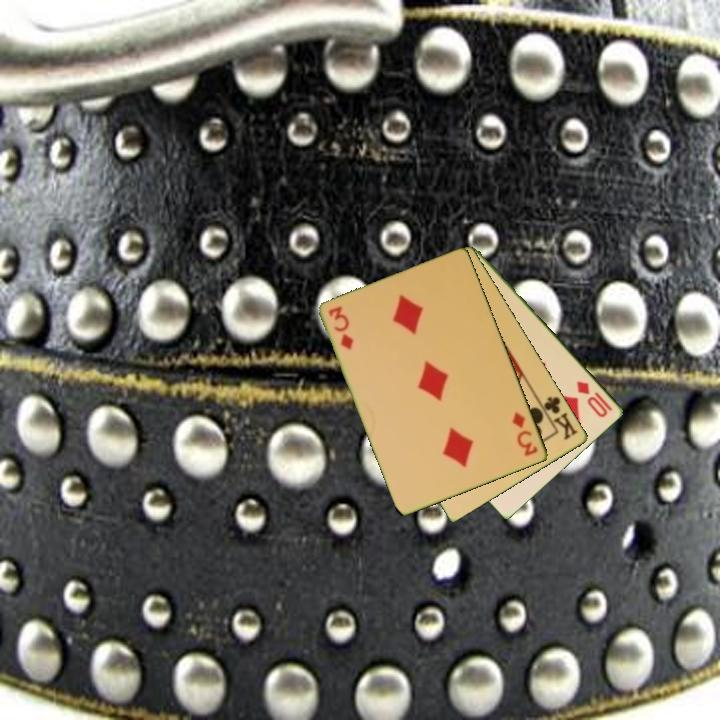10d: (573, 377, 616, 420)
3d: (509, 408, 541, 459), (325, 303, 357, 353)
Kc: (536, 393, 581, 443)
